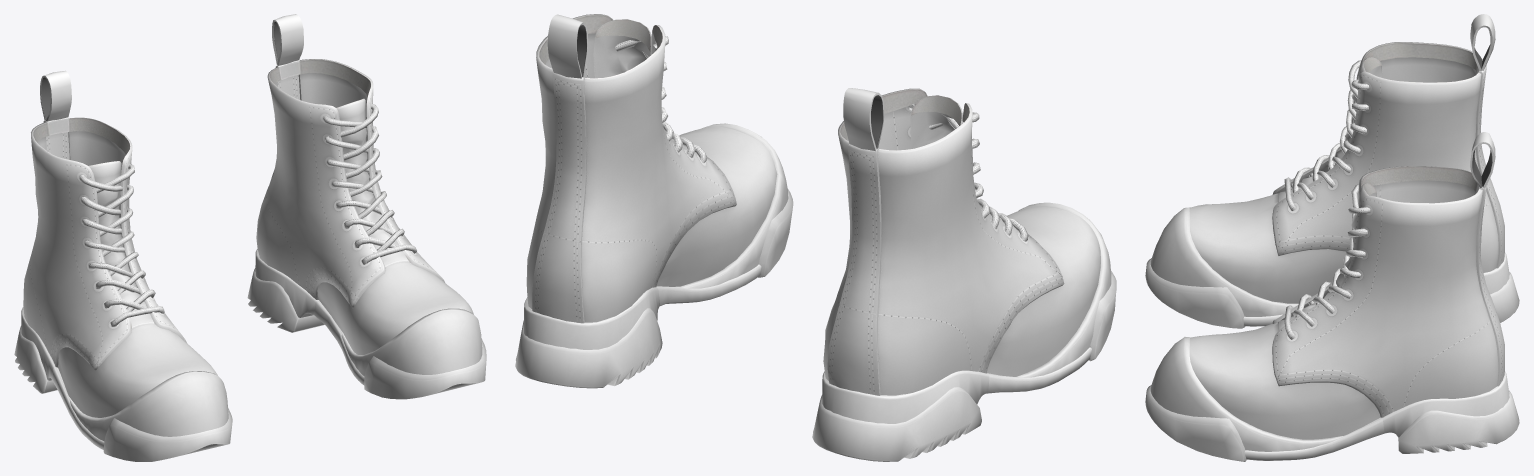
File: NFT_BOOTS_OP2.glb
3 views of the same model, side by side, from view 1: azimuth 30°, elevation 25°; view 2: azimuth 150°, elevation 25°; view 3: azimuth 270°, elevation 25° (orthographic). The views are drawn at different scales.
Parts seen in each view (by area): view 1: OP2_BASE_01, OP2_BASE_02, OP2_OUTSOLE_01, OP2_BASE_03, OP2_OUTSOLE_02, OP2_OUTSOLE_03, OP2_OUTSOLE_04, OP2_BASE_05, OP2_BASE_04; view 2: OP2_BASE_01, OP2_BASE_02, OP2_BASE_04, OP2_OUTSOLE_04, OP2_OUTSOLE_03, OP2_OUTSOLE_01, OP2_BASE_05, OP2_OUTSOLE_02, OP2_BASE_03; view 3: OP2_BASE_01, OP2_BASE_02, OP2_OUTSOLE_01, OP2_OUTSOLE_02, OP2_OUTSOLE_03, OP2_OUTSOLE_04, OP2_BASE_03, OP2_BASE_04, OP2_BASE_05.
Part boxes in pixels (box(x1,y1,x2,y2)): OP2_BASE_01: box(23, 59, 444, 370); OP2_BASE_02: box(58, 98, 473, 417); OP2_OUTSOLE_01: box(69, 308, 482, 441); OP2_BASE_03: box(79, 104, 416, 326); OP2_OUTSOLE_02: box(103, 338, 486, 461); OP2_OUTSOLE_03: box(21, 249, 364, 449); OP2_OUTSOLE_04: box(14, 268, 324, 393); OP2_BASE_05: box(40, 14, 303, 121); OP2_BASE_04: box(43, 60, 301, 182); OP2_BASE_01: box(526, 14, 1064, 395); OP2_BASE_02: box(593, 19, 1100, 376); OP2_BASE_04: box(532, 72, 881, 395); OP2_OUTSOLE_04: box(515, 308, 981, 461); OP2_OUTSOLE_03: box(524, 264, 1091, 423); OP2_OUTSOLE_01: box(680, 123, 1111, 377); OP2_BASE_05: box(547, 14, 884, 151); OP2_OUTSOLE_02: box(757, 189, 1116, 361); OP2_BASE_03: box(615, 36, 1028, 241); OP2_BASE_01: box(1272, 42, 1498, 417); OP2_BASE_02: box(1189, 57, 1382, 439); OP2_OUTSOLE_01: box(1150, 207, 1342, 451); OP2_OUTSOLE_02: box(1145, 258, 1246, 461); OP2_OUTSOLE_03: box(1243, 252, 1509, 460); OP2_OUTSOLE_04: box(1398, 272, 1519, 453); OP2_BASE_03: box(1284, 60, 1370, 339); OP2_BASE_04: box(1475, 59, 1504, 386); OP2_BASE_05: box(1470, 14, 1495, 188).
Size of the model in its own units: 44.92 by 32.79 by 38.01.
Materials: 1 (1 with a texture image).
